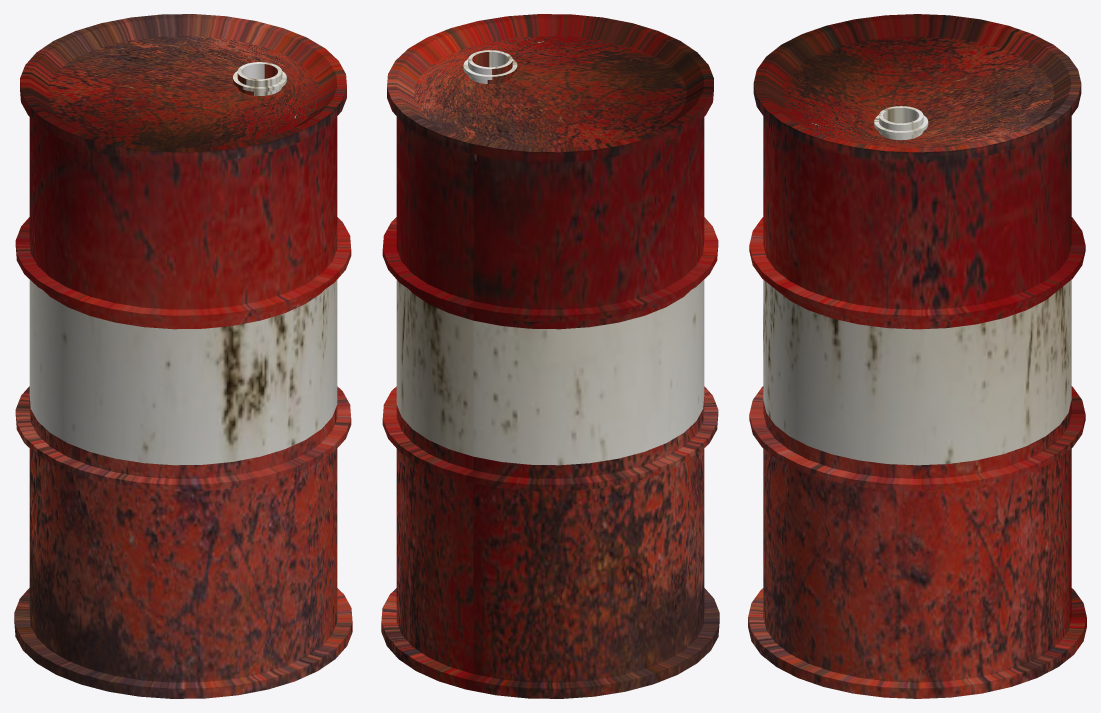
Rendered from Barrel.glb.
3 renders of one model, left to right at view 1: azimuth 30°, elevation 25°; view 2: azimuth 150°, elevation 25°; view 3: azimuth 270°, elevation 25°, orthographic.
Visible parts, largest first — view 1: Cylinder; view 2: Cylinder; view 3: Cylinder.
Boxes of the visible parts, x1,y1,x2,y2 form: Cylinder: (14, 14, 352, 698); Cylinder: (381, 14, 719, 698); Cylinder: (748, 14, 1086, 698).
Size of the model in its own units: 2.2 by 3.91 by 2.2.
Materials: 3 (2 with a texture image).
